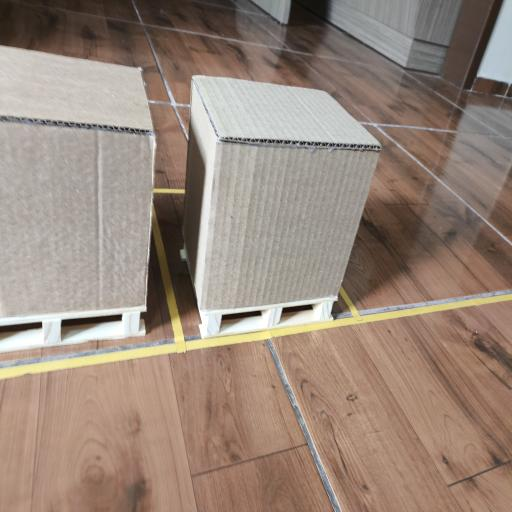pallet: (0, 309, 145, 351), (200, 297, 337, 338)
